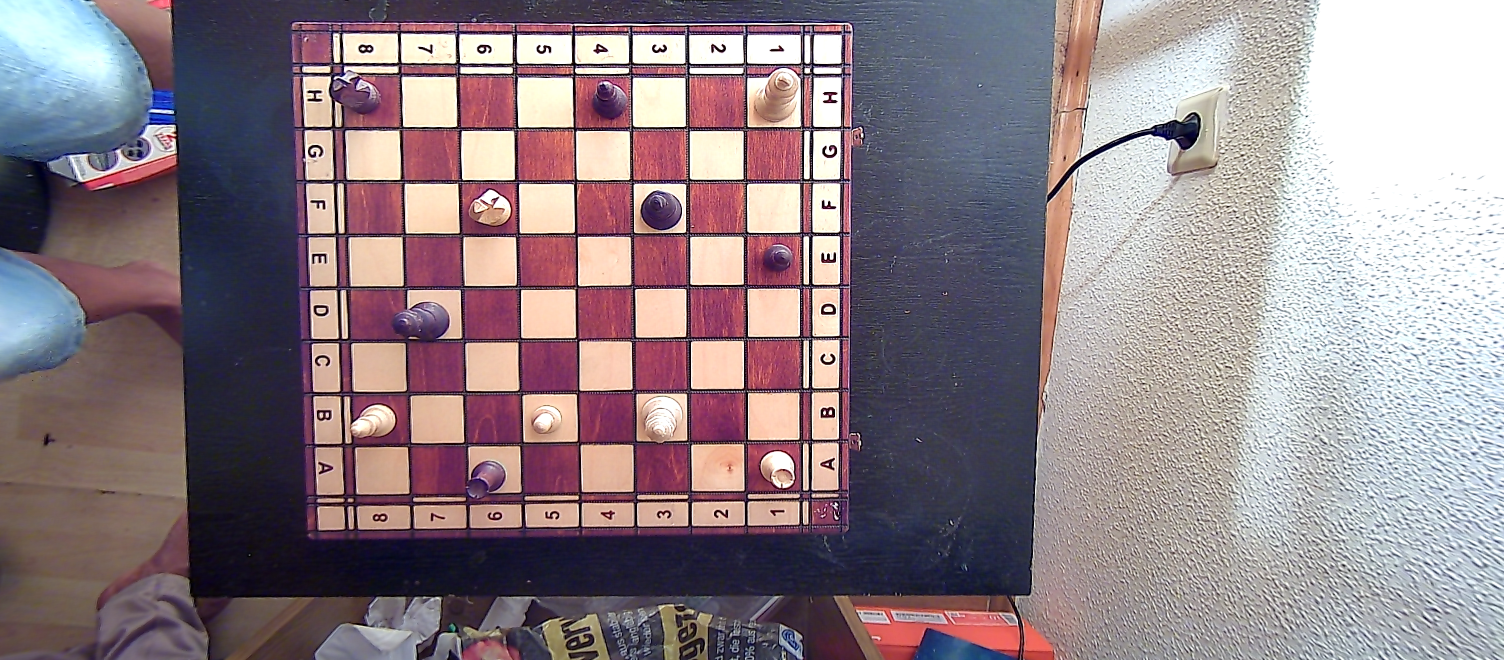black-bishop: (588, 77, 630, 122)
black-king: (638, 188, 684, 233)
black-knight: (325, 66, 387, 116)
black-pawn: (761, 239, 795, 273)
black-queen: (391, 299, 451, 346)
black-rook: (463, 458, 508, 501)
white-bishop: (347, 400, 397, 439)
white-king: (755, 66, 801, 122)
white-knight: (466, 187, 512, 230)
white-pawn: (525, 403, 563, 436)
white-queen: (639, 395, 685, 444)
white-rook: (757, 446, 796, 492)
